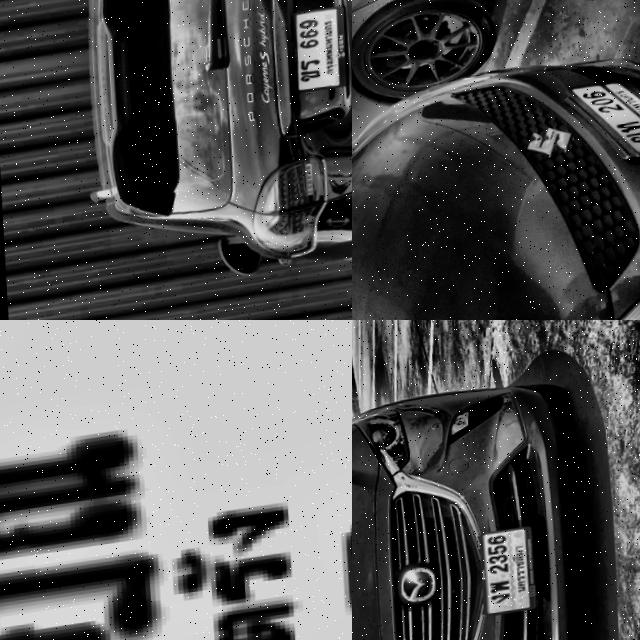license-plate: (0, 320, 352, 640), (562, 70, 640, 176), (288, 10, 352, 98), (479, 533, 537, 625)
